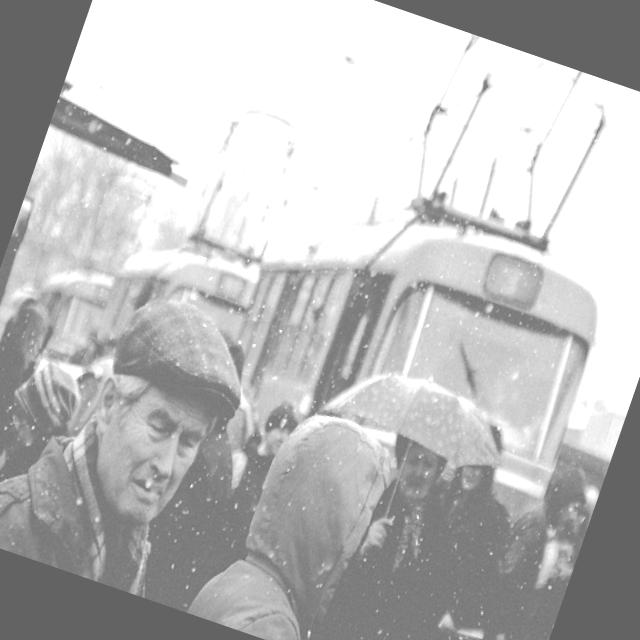Vehicle: (213, 166, 620, 526), (7, 252, 138, 378)
